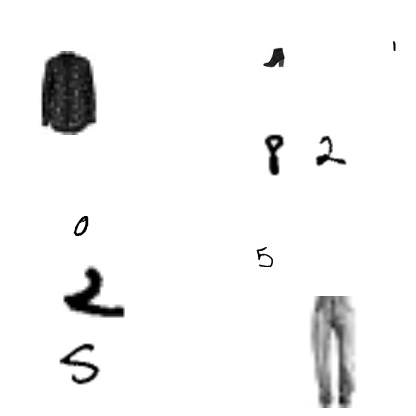0: (67, 212, 95, 240)
1: (387, 39, 401, 53)
2: (49, 254, 133, 338), (307, 133, 349, 175)
5: (52, 336, 108, 392), (250, 243, 278, 271)
8: (245, 123, 301, 179)
Ankle_boot: (263, 47, 285, 69)
Shirt: (24, 51, 108, 135)
Trouser: (275, 296, 387, 408)
